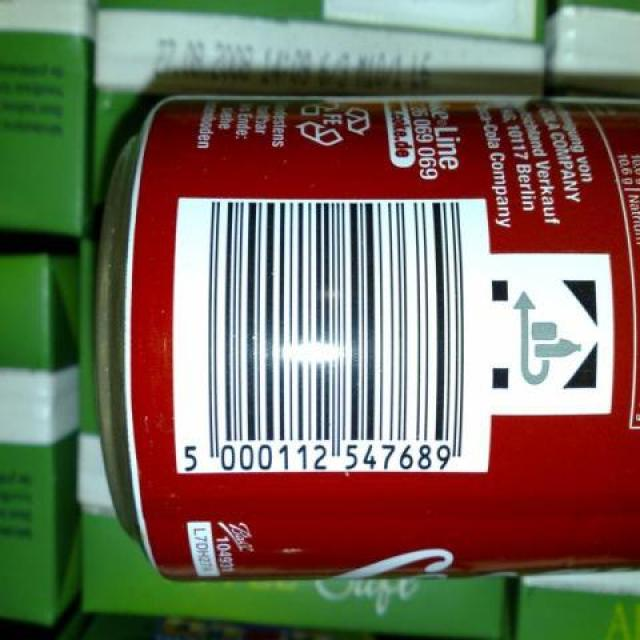Barcode: (172, 197, 488, 472)
